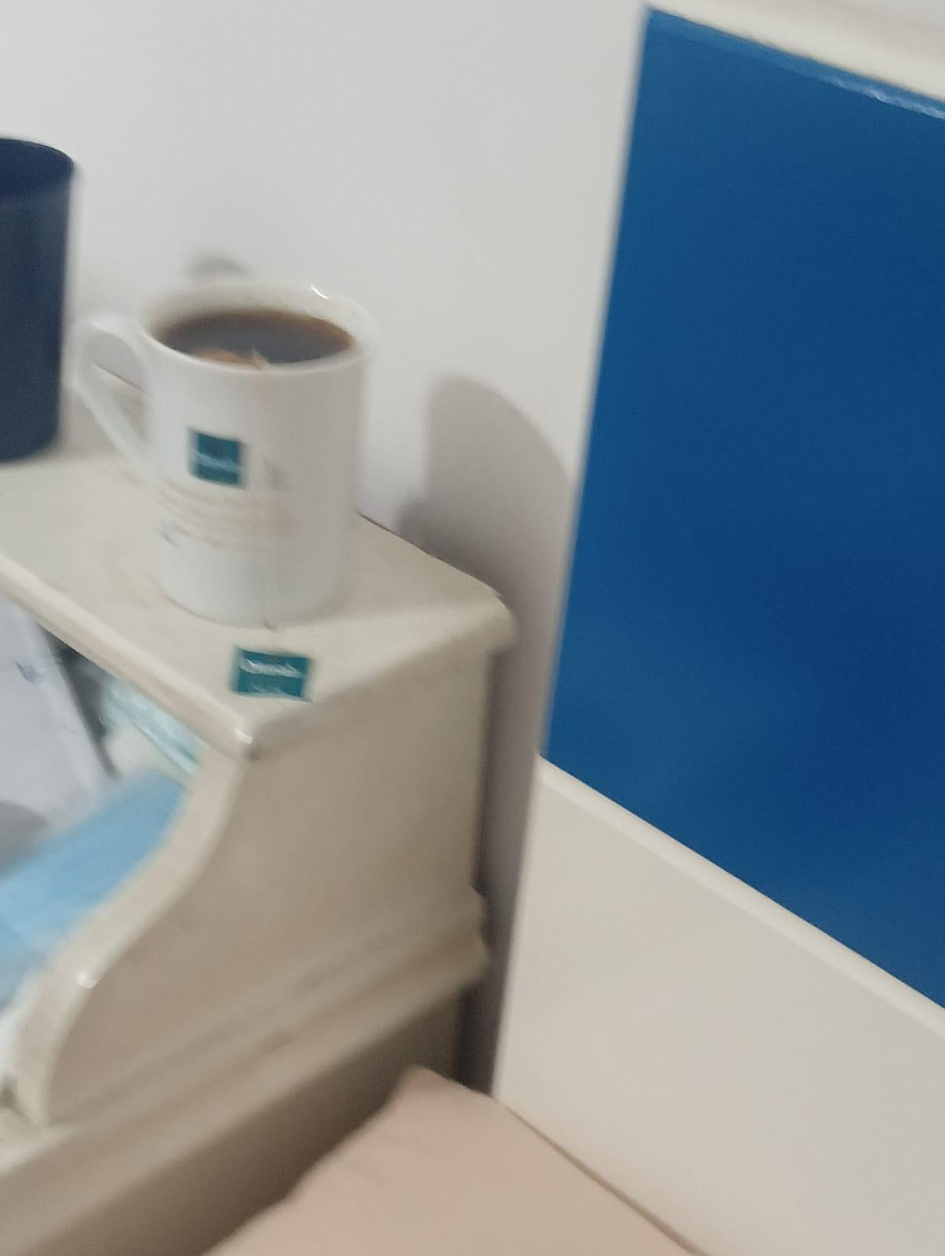cup: (74, 279, 371, 626), (0, 138, 73, 460)
